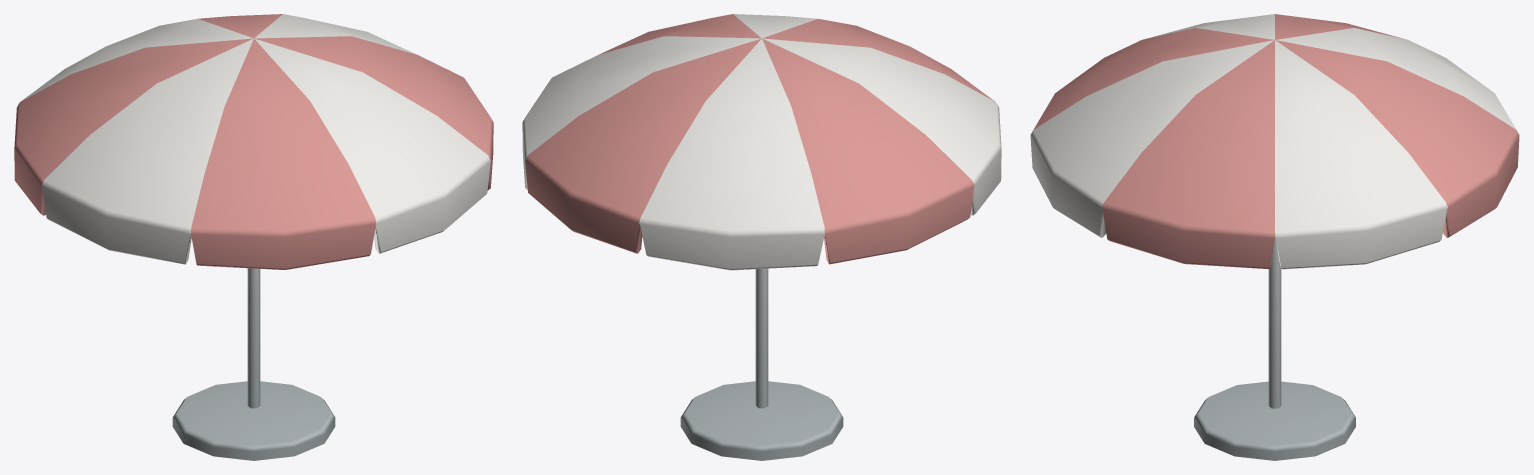
Rendered from Umbrella.fbx.
3 views of the same model, side by side, from view 1: azimuth 30°, elevation 25°; view 2: azimuth 150°, elevation 25°; view 3: azimuth 270°, elevation 25° (orthographic).
Visible parts, largest first — view 1: Cylinder.007; view 2: Cylinder.007; view 3: Cylinder.007.
Boxes of the visible parts, <box> form: Cylinder.007: <box>14,14,493,460</box>; Cylinder.007: <box>522,14,1001,460</box>; Cylinder.007: <box>1030,14,1519,460</box>.
Size of the model in its own units: 403 by 352 by 403.
